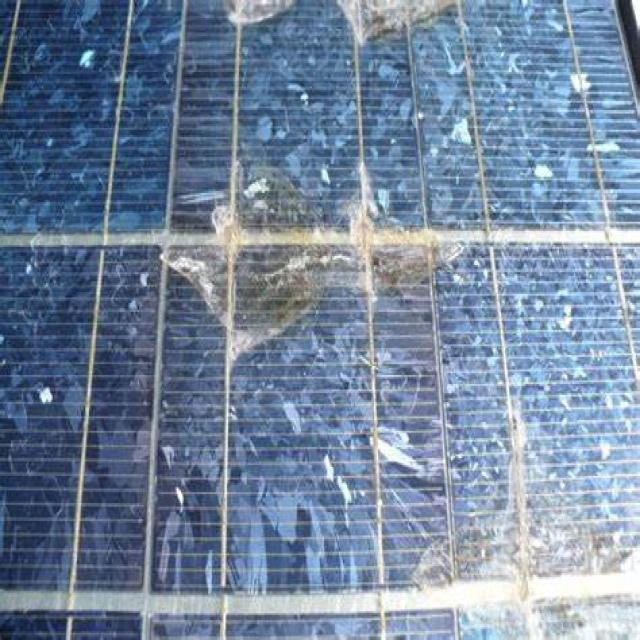Electrical-damage: (149, 157, 442, 356), (378, 441, 640, 640), (200, 0, 484, 77)
